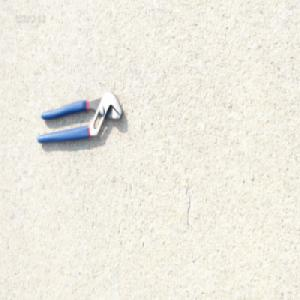Pliers: (35, 90, 122, 145)
